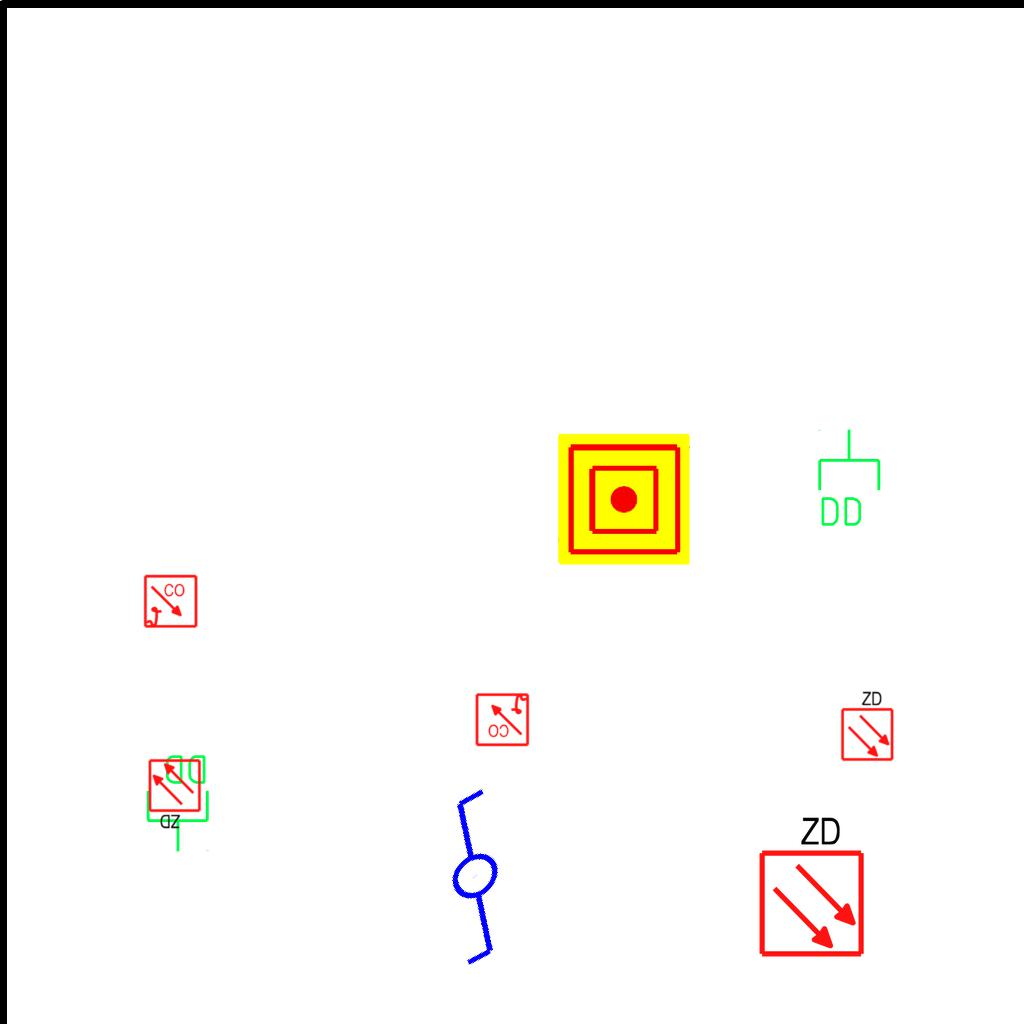Datenanschluss_zweifach: (814, 427, 883, 530), (144, 751, 213, 854)
NAM-Nichtautomatischer_Melder: (558, 433, 690, 565)
ROA_Rauchmelder_optisch_mit_Signalgeber_(Sockelsirene): (143, 574, 199, 630), (474, 691, 530, 747)
Wechselschalter: (376, 765, 589, 979)
ZD_Melder_in_Zwischendecke_mit_Revisionsoeffnung_mind_40_x_40_cm: (753, 810, 867, 959), (838, 688, 895, 762), (147, 758, 204, 832)
